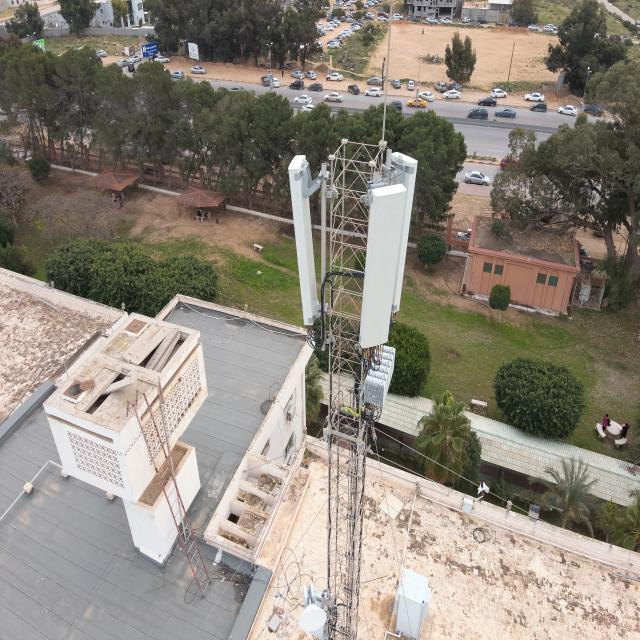antenna: (358, 178, 410, 351), (376, 136, 420, 329), (281, 150, 326, 334)
lighnig-rad: (381, 0, 394, 152)
microware-dish: (298, 579, 328, 636)
power-box: (308, 586, 329, 638)
radio-unit: (363, 346, 397, 416)
